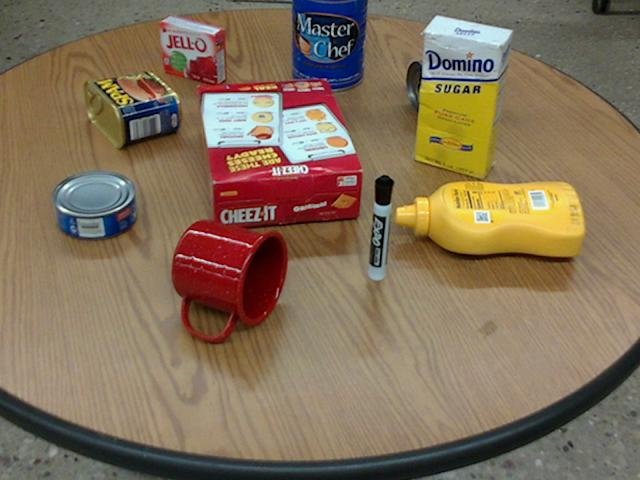cracker_box: (196, 78, 363, 228)
gelatin_box: (159, 14, 225, 83)
large_marker: (368, 174, 392, 280)
master_chef_can: (292, 0, 367, 89)
mug: (169, 220, 285, 339)
mustard_bottle: (395, 181, 583, 256)
potted_meat_can: (83, 71, 179, 146)
sugar_box: (415, 15, 511, 178)
tomato_soup_can: (405, 49, 496, 111)
tuna_fish_can: (51, 169, 135, 238)
